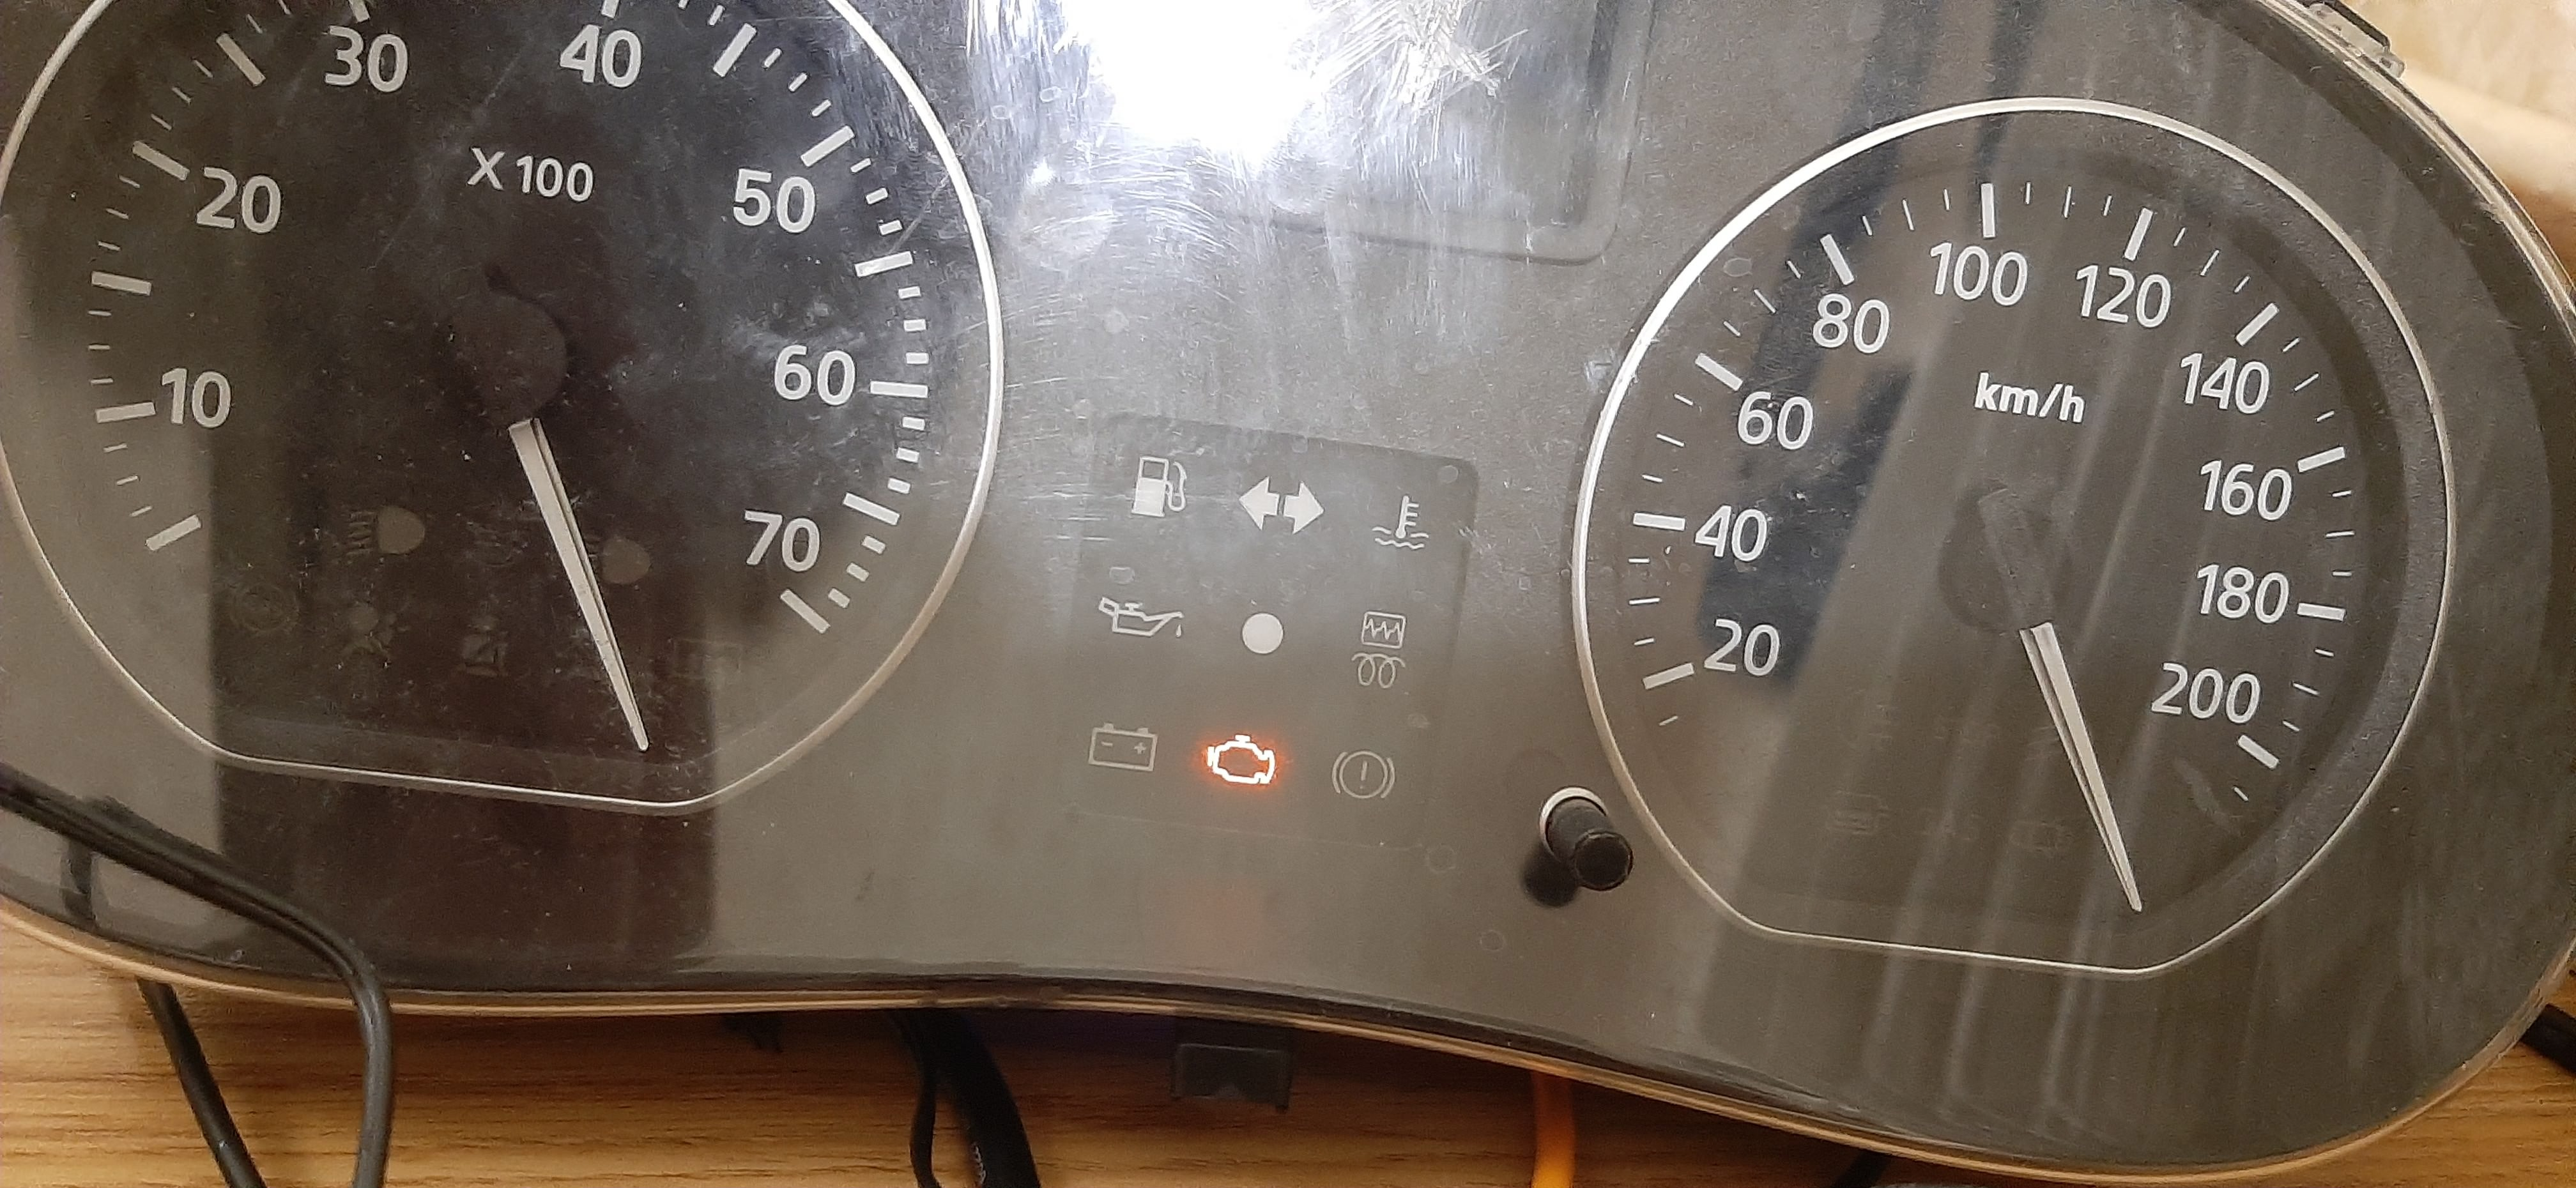engine13: (1203, 731, 1280, 787)
